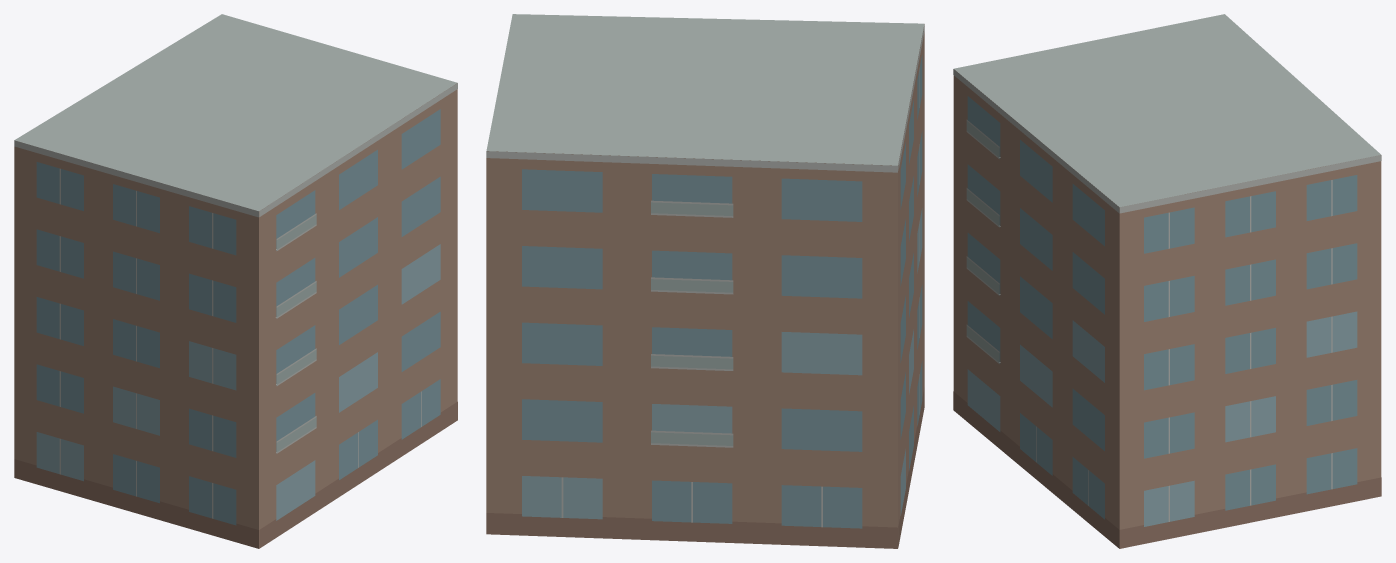
File: survey-upis-32703115.glb
3 views of the same model, side by side, from view 1: azimuth 30°, elevation 25°; view 2: azimuth 150°, elevation 25°; view 3: azimuth 270°, elevation 25° (orthographic). The views are drawn at different scales.
Visible parts, largest first — view 1: survey-upis-32703115.tmp; view 2: survey-upis-32703115.tmp; view 3: survey-upis-32703115.tmp.
Part boxes in pixels (<box>): survey-upis-32703115.tmp: <box>14,14,457,548</box>; survey-upis-32703115.tmp: <box>486,14,924,548</box>; survey-upis-32703115.tmp: <box>953,14,1381,548</box>.
Size of the model in its own units: 16.21 by 13.35 by 15.17.
